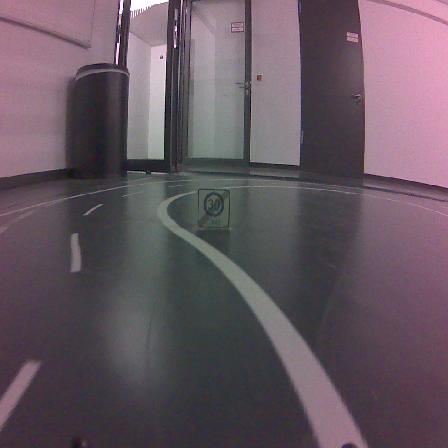30_ZONE_END: (198, 189, 229, 228)
